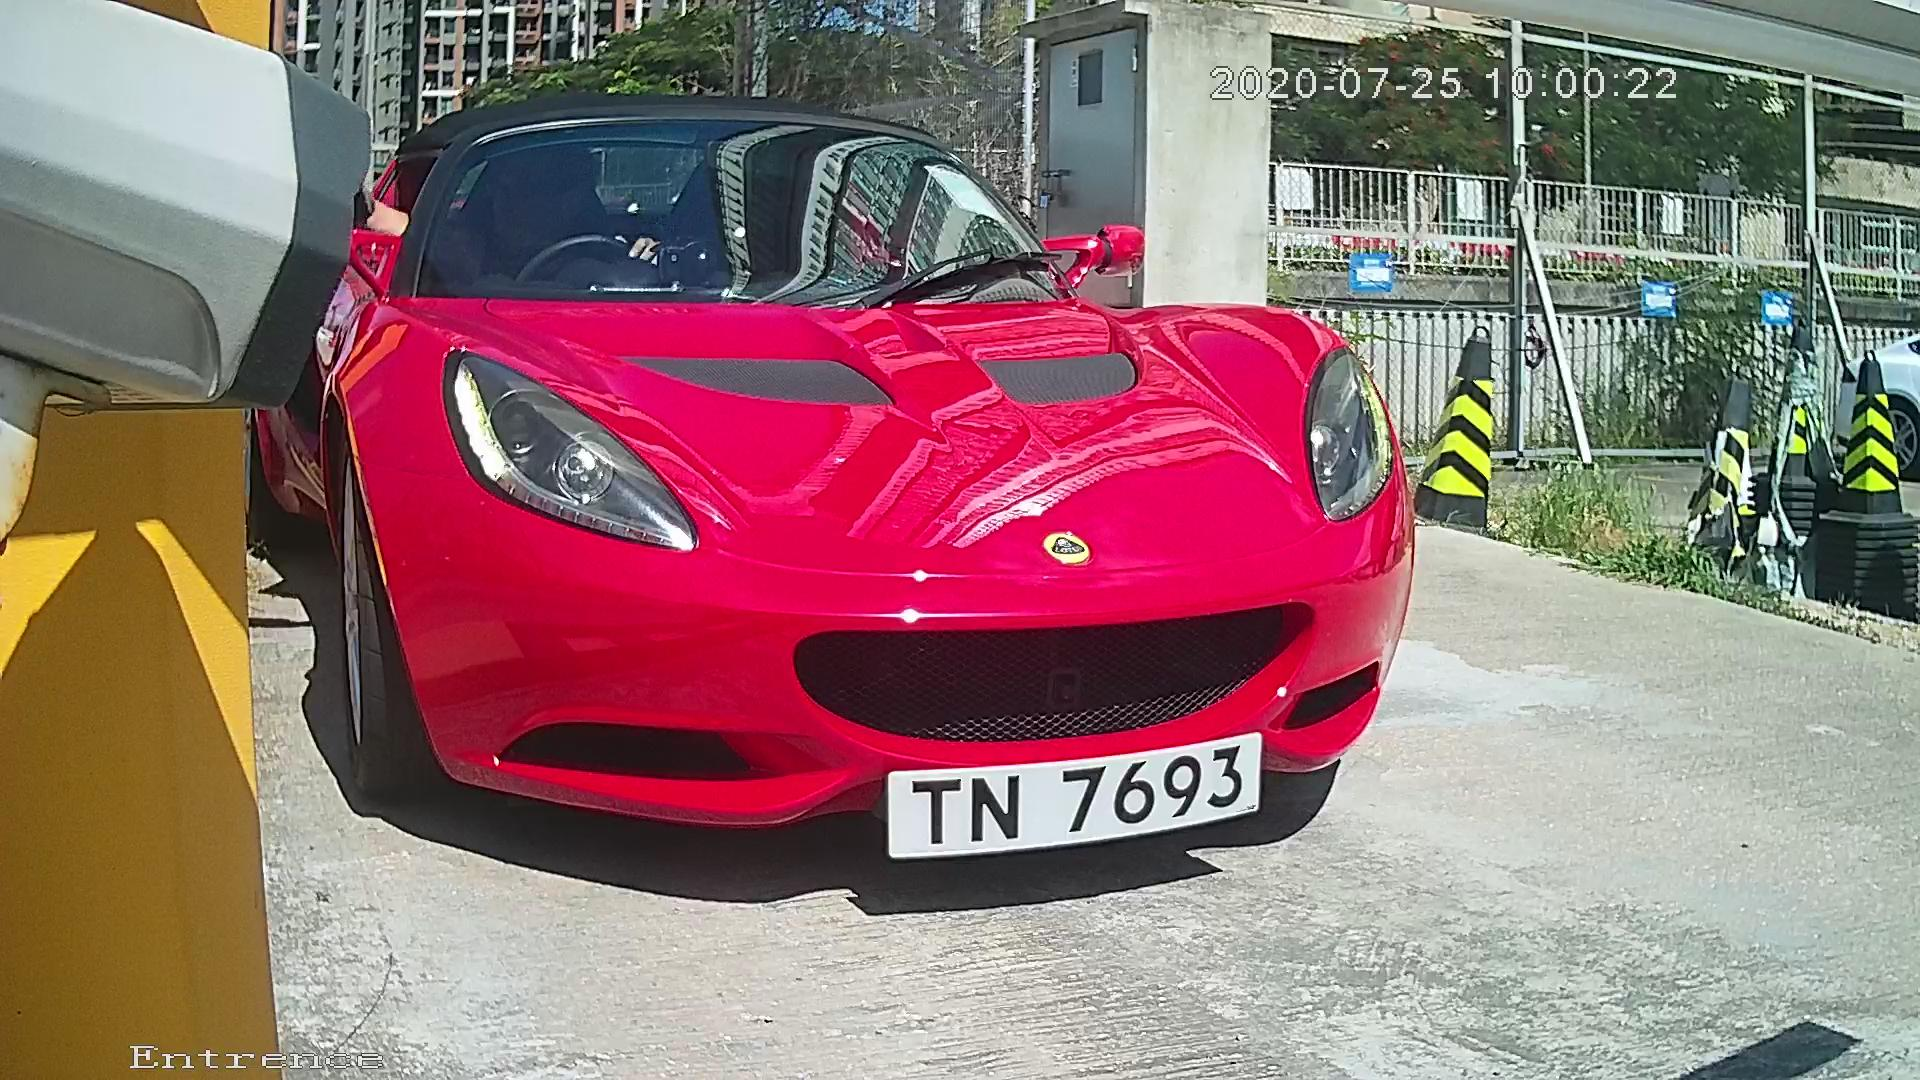Car: (103, 5, 1595, 984)
License Plate: (849, 738, 1269, 864)
